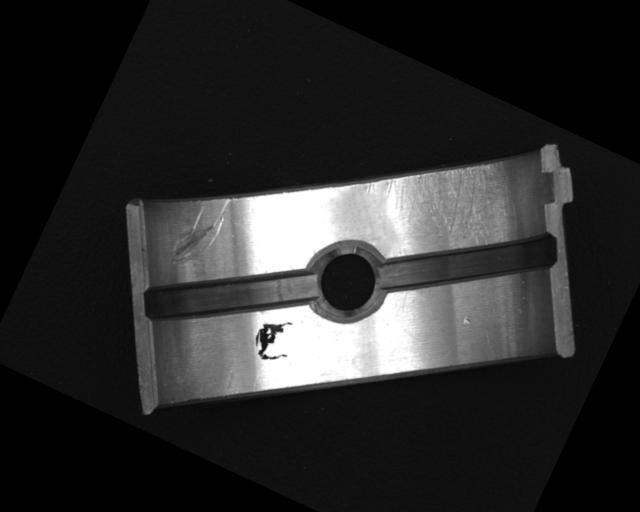blot: (247, 309, 302, 369)
bruise: (460, 314, 474, 328)
gap: (372, 174, 566, 348), (135, 212, 319, 375)
hole: (296, 232, 400, 335)
nick: (163, 183, 235, 277)
scratch: (357, 112, 539, 269)
